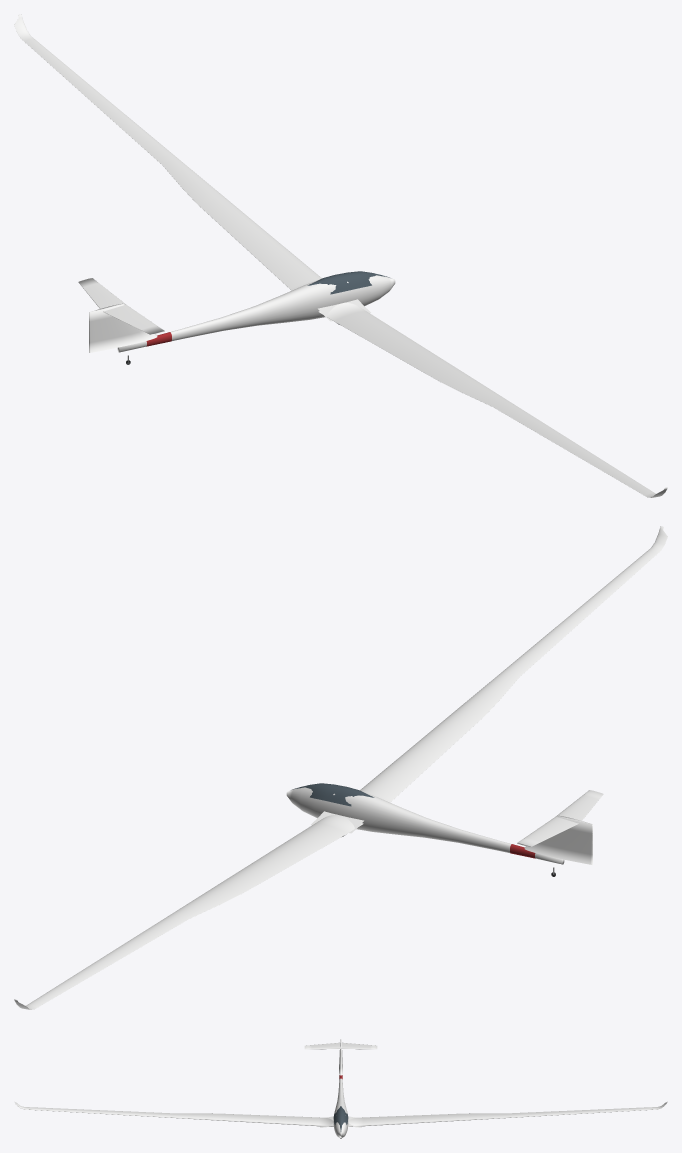
File: glider-eb29r-like-own.glb
3 renders of one model, top to bottom at view 1: azimuth 30°, elevation 25°; view 2: azimuth 150°, elevation 25°; view 3: azimuth 270°, elevation 25°, orthographic. The views are drawn at different scales.
Visible parts, largest first — view 1: Wing1, Wing-1, Pod, Fin, Stabilator, Canopy; view 2: Wing-1, Wing1, Pod, Fin, Stabilator, Canopy; view 3: Wing1, Wing-1, Stabilator, Pod, Canopy.
Part boxes in pixels (left/top/right/bottom): Wing1: left=14, top=14, right=321, bottom=290; Wing-1: left=318, top=303, right=667, bottom=497; Pod: left=117, top=275, right=395, bottom=352; Fin: left=89, top=303, right=157, bottom=352; Stabilator: left=78, top=278, right=164, bottom=334; Canopy: left=307, top=271, right=389, bottom=294; Wing-1: left=360, top=526, right=667, bottom=802; Wing1: left=14, top=815, right=363, bottom=1009; Pod: left=286, top=787, right=564, bottom=864; Fin: left=524, top=815, right=592, bottom=864; Stabilator: left=517, top=790, right=603, bottom=846; Canopy: left=292, top=783, right=374, bottom=806; Wing1: left=348, top=1101, right=667, bottom=1126; Wing-1: left=14, top=1101, right=333, bottom=1126; Stabilator: left=304, top=1042, right=377, bottom=1049; Pod: left=333, top=1078, right=348, bottom=1138; Canopy: left=333, top=1106, right=348, bottom=1131.
Bounding box in the file's own units: 8 × 1.85 × 29.31.
